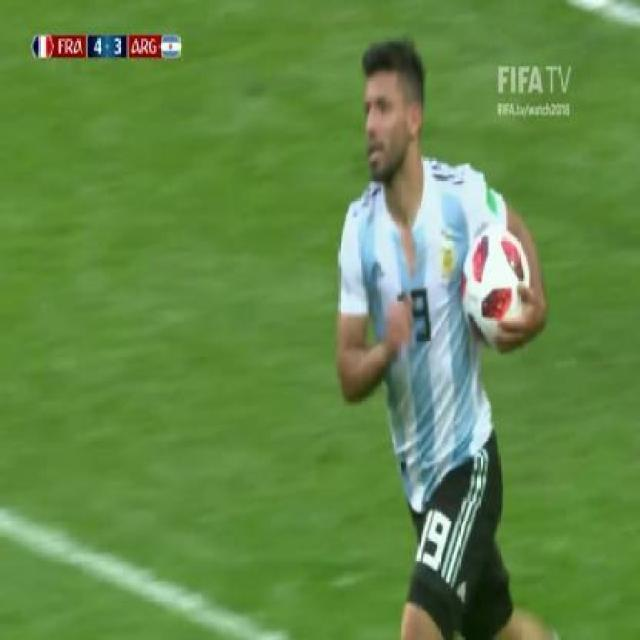ball: (455, 234, 552, 357)
player: (312, 15, 557, 640)
